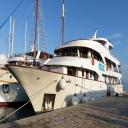cruises: (3, 30, 125, 117)
